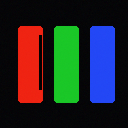4 line_v: (39, 35, 41, 89)
